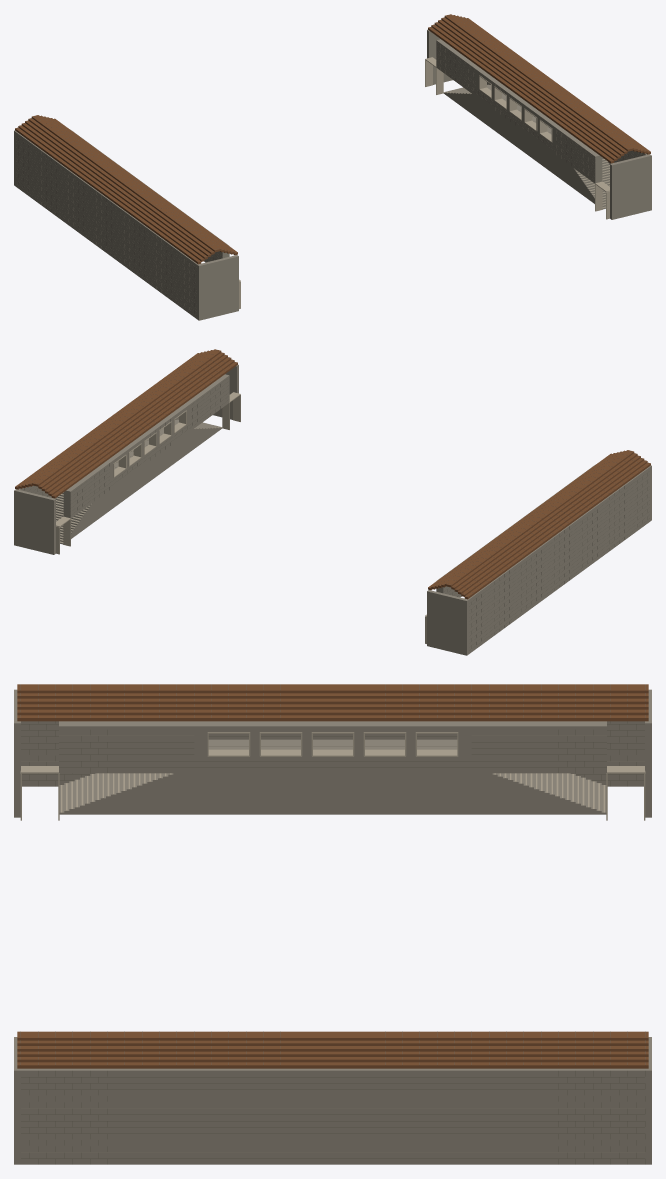
The model's file is fortaleza-galleries.glb.
3 views of the same model, one above another, from view 1: azimuth 30°, elevation 25°; view 2: azimuth 150°, elevation 25°; view 3: azimuth 270°, elevation 25° (orthographic). The views are drawn at different scales.
Visible parts, largest first — view 1: Aged fortress limestone, Weathered terracotta, Recessed mortar, Dressed window stone; view 2: Aged fortress limestone, Weathered terracotta, Recessed mortar, Dressed window stone; view 3: Aged fortress limestone, Weathered terracotta, Recessed mortar, Dressed window stone.
Part boxes in pixels (left/top/right/bottom): Aged fortress limestone: left=14, top=29, right=651, bottom=320; Weathered terracotta: left=15, top=14, right=650, bottom=264; Recessed mortar: left=16, top=15, right=649, bottom=315; Dressed window stone: left=239, top=57, right=609, bottom=308; Aged fortress limestone: left=14, top=364, right=651, bottom=655; Weathered terracotta: left=15, top=349, right=650, bottom=599; Recessed mortar: left=16, top=350, right=649, bottom=650; Dressed window stone: left=56, top=392, right=426, bottom=643; Aged fortress limestone: left=14, top=689, right=651, bottom=1164; Weathered terracotta: left=17, top=684, right=648, bottom=1068; Recessed mortar: left=20, top=684, right=645, bottom=1164; Dressed window stone: left=20, top=732, right=645, bottom=820.
Bounding box in the file's own units: 52.01 × 7.19 × 36.8.
